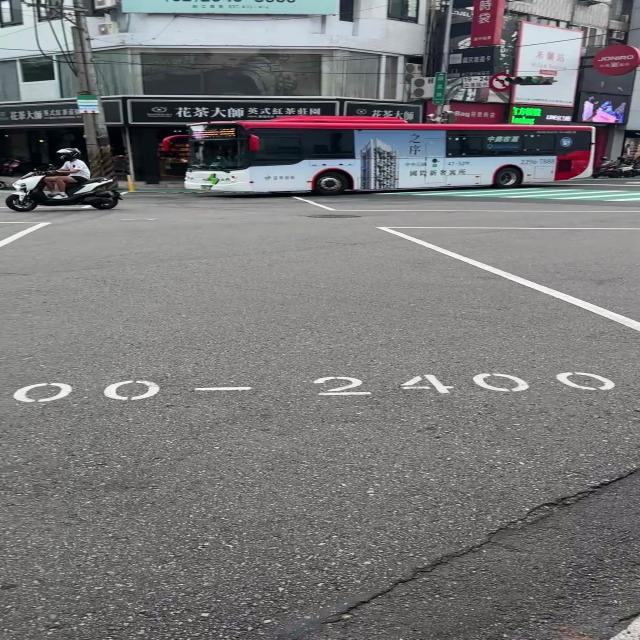bus: (185, 116, 593, 194)
crosswalk: (357, 187, 640, 204)
motocycle: (7, 169, 121, 211)
